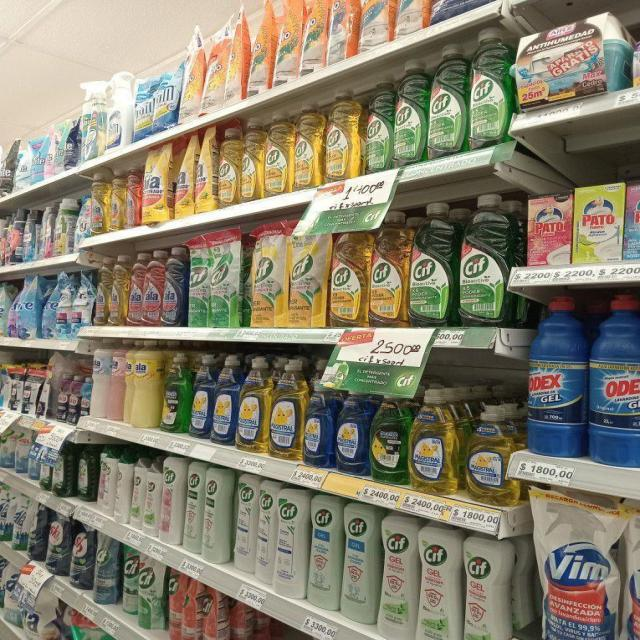ala_conc_amarillo: (110, 254, 128, 326), (96, 255, 110, 326), (109, 168, 124, 232)
ala_conc_azul: (163, 247, 187, 327)
ala_conc_rojo: (144, 250, 162, 328), (128, 252, 144, 327)
ala_crem_amarillo: (129, 340, 161, 429)
ala_crem_rosado: (92, 338, 110, 422), (109, 340, 125, 422)
ala_sachet_amarillo: (142, 142, 169, 225), (195, 126, 216, 213), (172, 134, 194, 217), (91, 170, 108, 236), (124, 166, 141, 228)
cif_conc_bot_amarilla: (369, 210, 407, 326), (329, 220, 368, 326), (324, 91, 362, 180), (293, 103, 323, 189), (264, 114, 292, 196), (241, 117, 263, 201), (218, 124, 240, 207)
cif_conc_botella_verde: (458, 194, 508, 326), (408, 201, 455, 326), (468, 29, 511, 148), (427, 43, 467, 157), (393, 58, 426, 166), (365, 77, 392, 173)
cif_conc_sachet_amarillo: (249, 222, 288, 327), (289, 222, 327, 327), (210, 230, 240, 327), (188, 234, 210, 328)
cif_conc_sachet_verde: (139, 554, 162, 630), (121, 547, 138, 618)
magistral_con_amarillo: (410, 388, 458, 494), (464, 403, 513, 504), (270, 357, 303, 460), (238, 355, 269, 453)
magistral_con_azul: (335, 392, 368, 472), (304, 388, 334, 468), (212, 354, 238, 446), (190, 352, 212, 440)
